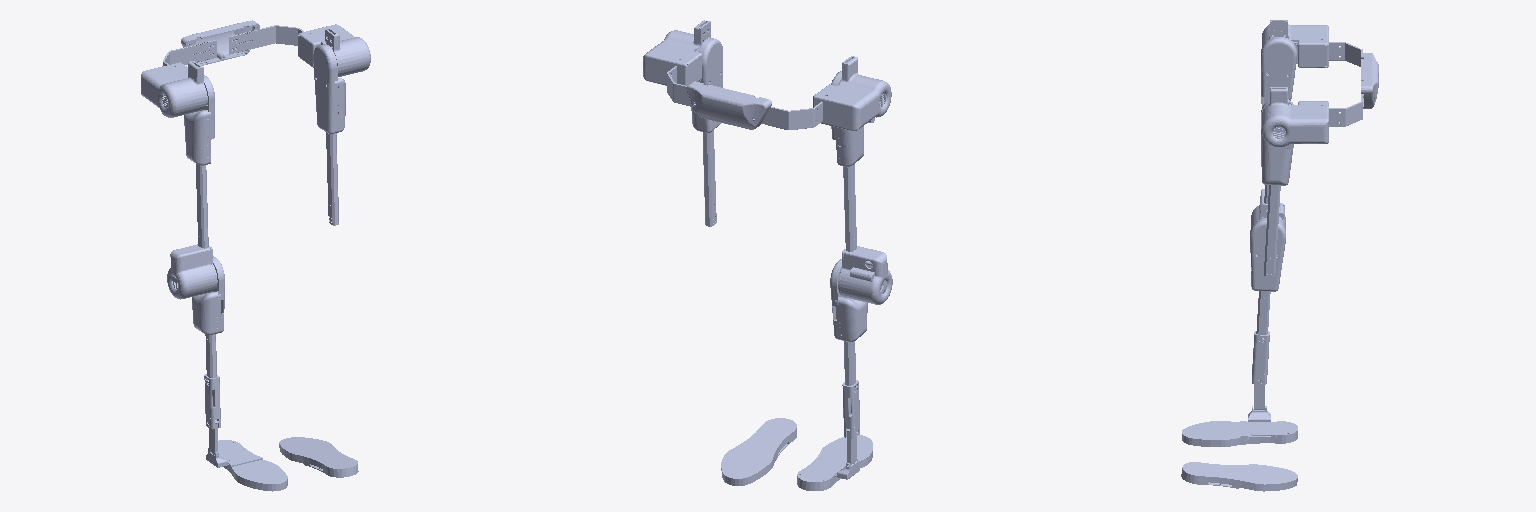
robot.urdf — Exoskeleton (1).STEP:
<?xml version="1.0" encoding="utf-8"?>
<!-- This URDF was automatically created by SolidWorks to URDF Exporter! Originally created by [author] ([email redacted]) 
     Commit Version: 1.5.1-0-g916b5db  Build Version: 1.5.7152.31018
     For more information, please see http://wiki.ros.org/sw_urdf_exporter -->
<robot
  name="Exoskeleton (1).STEP">
  <link
    name="base_link">
    <inertial>
      <origin
        xyz="0.052532281047494 -0.193073753287912 0.114602092612989"
        rpy="0 0 0" />
      <mass
        value="0.823502223050028" />
      <inertia
        ixx="0.00238127557502139"
        ixy="-4.96767409774172E-07"
        ixz="-2.76117262462438E-07"
        iyy="0.00301852958829339"
        iyz="-0.000122349478212535"
        izz="0.0021056278530332" />
    </inertial>
    <visual>
      <origin
        xyz="0 0 0"
        rpy="0 0 0" />
      <geometry>
        <mesh
          filename="package://Exoskeleton (1).STEP/meshes/base_link.STL" />
      </geometry>
      <material
        name="">
        <color
          rgba="0.792156862745098 0.819607843137255 0.933333333333333 1" />
      </material>
    </visual>
    <collision>
      <origin
        xyz="0 0 0"
        rpy="0 0 0" />
      <geometry>
        <mesh
          filename="package://Exoskeleton (1).STEP/meshes/base_link.STL" />
      </geometry>
    </collision>
  </link>
  <link
    name="link1">
    <inertial>
      <origin
        xyz="-0.000101658585292097 -0.128998000459369 -0.00810576828567736"
        rpy="0 0 0" />
      <mass
        value="0.274286322473506" />
      <inertia
        ixx="0.000864948817071921"
        ixy="2.20754606707127E-06"
        ixz="5.60535098459371E-08"
        iyy="0.000156810080960356"
        iyz="5.13265806366607E-07"
        izz="0.000984306304150326" />
    </inertial>
    <visual>
      <origin
        xyz="0 0 0"
        rpy="0 0 0" />
      <geometry>
        <mesh
          filename="package://Exoskeleton (1).STEP/meshes/link1.STL" />
      </geometry>
      <material
        name="">
        <color
          rgba="0.792156862745098 0.819607843137255 0.933333333333333 1" />
      </material>
    </visual>
    <collision>
      <origin
        xyz="0 0 0"
        rpy="0 0 0" />
      <geometry>
        <mesh
          filename="package://Exoskeleton (1).STEP/meshes/link1.STL" />
      </geometry>
    </collision>
  </link>
  <joint
    name="joint1"
    type="revolute">
    <origin
      xyz="-0.13144 -0.20798 -0.1979"
      rpy="1.5708 0.054965 1.5708" />
    <parent
      link="base_link" />
    <child
      link="link1" />
    <axis
      xyz="0 0 1" />
    <limit
      lower="-0.87"
      upper="1.57"
      effort="100"
      velocity="1.5" />
  </joint>
  <link
    name="link1-1">
    <inertial>
      <origin
        xyz="-0.000950616772285751 -0.169216890624874 0.00553126431836057"
        rpy="0 0 0" />
      <mass
        value="0.595096847839178" />
      <inertia
        ixx="0.00105624142401385"
        ixy="3.51219159200096E-06"
        ixz="-5.89105927202825E-07"
        iyy="0.000487797003802771"
        iyz="-1.20271585746716E-05"
        izz="0.00110865779147274" />
    </inertial>
    <visual>
      <origin
        xyz="0 0 0"
        rpy="0 0 0" />
      <geometry>
        <mesh
          filename="package://Exoskeleton (1).STEP/meshes/link1-1.STL" />
      </geometry>
      <material
        name="">
        <color
          rgba="0.792156862745098 0.819607843137255 0.933333333333333 1" />
      </material>
    </visual>
    <collision>
      <origin
        xyz="0 0 0"
        rpy="0 0 0" />
      <geometry>
        <mesh
          filename="package://Exoskeleton (1).STEP/meshes/link1-1.STL" />
      </geometry>
    </collision>
  </link>
  <joint
    name="joint1-1"
    type="revolute">
    <origin
      xyz="-5E-05 -0.50938 -0.0015"
      rpy="3.1416 0 3.1416" />
    <parent
      link="link1" />
    <child
      link="link1-1" />
    <axis
      xyz="0 0 -1" />
    <limit
      lower="0"
      upper="2.09"
      effort="100"
      velocity="1.5" />
  </joint>
  <link
    name="link1-1-1">
    <inertial>
      <origin
        xyz="0.0142952685728795 0.00210506518297127 0.0133255508520786"
        rpy="0 0 0" />
      <mass
        value="0.55392185279326" />
      <inertia
        ixx="0.00338656599642928"
        ixy="-0.000158015397165354"
        ixz="5.22440747847126E-07"
        iyy="0.000435922565733831"
        iyz="9.10084647973904E-06"
        izz="0.00378970948061791" />
    </inertial>
    <visual>
      <origin
        xyz="0 0 0"
        rpy="0 0 0" />
      <geometry>
        <mesh
          filename="package://Exoskeleton (1).STEP/meshes/link1-1-1.STL" />
      </geometry>
      <material
        name="">
        <color
          rgba="0.792156862745098 0.819607843137255 0.933333333333333 1" />
      </material>
    </visual>
    <collision>
      <origin
        xyz="0 0 0"
        rpy="0 0 0" />
      <geometry>
        <mesh
          filename="package://Exoskeleton (1).STEP/meshes/link1-1-1.STL" />
      </geometry>
    </collision>
  </link>
  <joint
    name="joint1-1-1"
    type="fixed">
    <origin
      xyz="0.043615 -0.52287 -0.06415"
      rpy="1.6258 1.5708 0" />
    <parent
      link="link1-1" />
    <child
      link="link1-1-1" />
    <axis
      xyz="0 0 1" />
    <limit
      lower="-0.87"
      upper="1.57"
      effort="100"
      velocity="1.5" />
  </joint>
  <link
    name="link2">
    <inertial>
      <origin
        xyz="-0.000435229668612147 -0.125366111313987 0.00501905154086529"
        rpy="0 0 0" />
      <mass
        value="0.206473389278125" />
      <inertia
        ixx="0.000669424155338344"
        ixy="-6.66750077835284E-07"
        ixz="5.58386361276652E-08"
        iyy="0.000150536111393244"
        iyz="-3.33531947846402E-06"
        izz="0.000786006597041285" />
    </inertial>
    <visual>
      <origin
        xyz="0 0 0"
        rpy="0 0 0" />
      <geometry>
        <mesh
          filename="package://Exoskeleton (1).STEP/meshes/link2.STL" />
      </geometry>
      <material
        name="">
        <color
          rgba="0.792156862745098 0.819607843137255 0.933333333333333 1" />
      </material>
    </visual>
    <collision>
      <origin
        xyz="0 0 0"
        rpy="0 0 0" />
      <geometry>
        <mesh
          filename="package://Exoskeleton (1).STEP/meshes/link2.STL" />
      </geometry>
    </collision>
  </link>
  <joint
    name="joint2"
    type="revolute">
    <origin
      xyz="0.236560902607651 -0.207975511987619 -0.197896692045494"
      rpy="1.5707963267949 0.054964542009261 1.5707963267949" />
    <parent
      link="base_link" />
    <child
      link="link2" />
    <axis
      xyz="0 0 1" />
    <limit
      lower="-0.87"
      upper="1.57"
      effort="1"
      velocity="0" />
  </joint>
  <link
    name="link2-1">
    <inertial>
      <origin
        xyz="0.000750666561466939 -0.107059578898637 0.0167490978851629"
        rpy="0 0 0" />
      <mass
        value="0.919165893918644" />
      <inertia
        ixx="0.00132500955901489"
        ixy="-3.57161819388725E-06"
        ixz="1.9183988161779E-06"
        iyy="0.000791218900622894"
        iyz="-1.32277628562988E-05"
        izz="0.00129010612249001" />
    </inertial>
    <visual>
      <origin
        xyz="0 0 0"
        rpy="0 0 0" />
      <geometry>
        <mesh
          filename="package://Exoskeleton (1).STEP/meshes/link2-1.STL" />
      </geometry>
      <material
        name="">
        <color
          rgba="0.792156862745098 0.819607843137255 0.933333333333333 1" />
      </material>
    </visual>
    <collision>
      <origin
        xyz="0 0 0"
        rpy="0 0 0" />
      <geometry>
        <mesh
          filename="package://Exoskeleton (1).STEP/meshes/link2-1.STL" />
      </geometry>
    </collision>
  </link>
  <joint
    name="joint2-1"
    type="revolute">
    <origin
      xyz="-5E-05 -0.50938 0.0015"
      rpy="0 0 0" />
    <parent
      link="link2" />
    <child
      link="link2-1" />
    <axis
      xyz="0 0 1" />
    <limit
      lower="0"
      upper="2.09"
      effort="100"
      velocity="1.5" />
  </joint>
  <link
    name="link2-1-1">
    <inertial>
      <origin
        xyz="0.0142952686924872 0.00210506701289281 0.010674448678224"
        rpy="0 0 0" />
      <mass
        value="0.55392183325648" />
      <inertia
        ixx="0.00338656598203427"
        ixy="-0.000158015396831563"
        ixz="-5.22440740508372E-07"
        iyy="0.000435922542858481"
        iyz="-9.1008456673613E-06"
        izz="0.0037897094434925" />
    </inertial>
    <visual>
      <origin
        xyz="0 0 0"
        rpy="0 0 0" />
      <geometry>
        <mesh
          filename="package://Exoskeleton (1).STEP/meshes/link2-1-1.STL" />
      </geometry>
      <material
        name="">
        <color
          rgba="0.792156862745098 0.819607843137255 0.933333333333333 1" />
      </material>
    </visual>
    <collision>
      <origin
        xyz="0 0 0"
        rpy="0 0 0" />
      <geometry>
        <mesh
          filename="package://Exoskeleton (1).STEP/meshes/link2-1-1.STL" />
      </geometry>
    </collision>
  </link>
  <joint
    name="joint2-1-1"
    type="fixed">
    <origin
      xyz="-0.042297 -0.54683 -0.06415"
      rpy="1.6258 1.5708 0" />
    <parent
      link="link2-1" />
    <child
      link="link2-1-1" />
    <axis
      xyz="0 0 0" />
  </joint>
</robot>

--- Facts derived from the render (not from the file) ---
The picture shows the robot from 3 angles, left to right: view 1: azimuth 30°, elevation 25°; view 2: azimuth 150°, elevation 25°; view 3: azimuth 270°, elevation 25°; orthographic projection.
Model Exoskeleton (1).STEP with 7 links and 6 joints (4 revolute, 2 fixed), rooted at base_link, posed every joint at zero.
Visible links, largest first — view 1: base_link, link1-1, link2, link1, link1-1-1, link2-1-1; view 2: base_link, link1-1, link2-1-1, link2, link1, link1-1-1; view 3: base_link, link1-1, link2-1-1, link1-1-1, link2, link1.
Link boxes in pixels (x1=…): base_link: x1=141, y1=20, x2=370, y2=117; link1-1: x1=167, y1=244, x2=228, y2=467; link2: x1=313, y1=44, x2=345, y2=225; link1: x1=184, y1=75, x2=214, y2=248; link1-1-1: x1=218, y1=440, x2=287, y2=491; link2-1-1: x1=279, y1=437, x2=358, y2=477; base_link: x1=643, y1=20, x2=891, y2=130; link1-1: x1=830, y1=246, x2=892, y2=479; link2-1-1: x1=721, y1=418, x2=796, y2=485; link2: x1=691, y1=38, x2=722, y2=226; link1: x1=831, y1=71, x2=863, y2=251; link1-1-1: x1=797, y1=435, x2=872, y2=490; base_link: x1=1262, y1=20, x2=1378, y2=148; link1-1: x1=1248, y1=189, x2=1285, y2=437; link2-1-1: x1=1181, y1=462, x2=1297, y2=491; link1-1-1: x1=1182, y1=421, x2=1297, y2=446; link2: x1=1261, y1=99, x2=1293, y2=276; link1: x1=1261, y1=37, x2=1296, y2=210.
Bounding box of the posed robot: 0.5978 × 0.5085 × 1.17 m (x, y, z).
Meshes: 7 distinct files referenced, 6 mesh visuals loaded (6 binary STL); not drawn: 1 (reference not matched to a file when rendering).